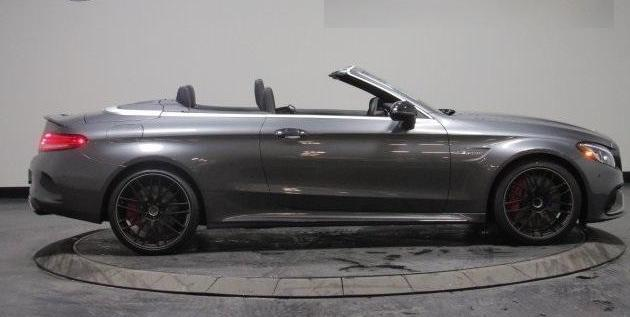C63AMG: (26, 56, 625, 265)
